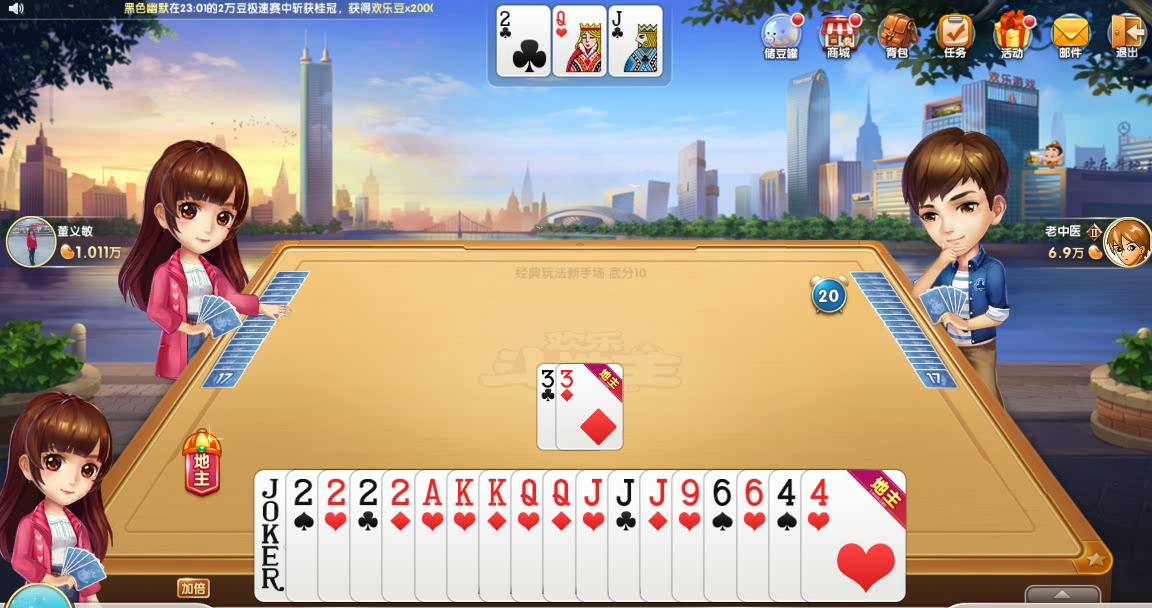11~1: (639, 469, 745, 603)
11~2: (607, 469, 713, 603), (608, 3, 663, 77)
11~3: (575, 469, 681, 603)
12~1: (542, 468, 648, 602)
12~3: (509, 468, 615, 602), (553, 4, 608, 78)
13~1: (478, 468, 584, 602)
13~3: (445, 468, 551, 602)
14~3: (414, 468, 520, 602)
15~1: (381, 469, 487, 603)
15~2: (349, 468, 455, 602), (497, 4, 552, 78)
15~3: (316, 469, 422, 603)
15~4: (284, 468, 390, 602)
17~3: (254, 469, 360, 603)
3~1: (555, 363, 624, 451)
3~2: (537, 362, 606, 450)
4~3: (801, 469, 907, 603)
4~4: (768, 468, 874, 602)
6~3: (736, 469, 842, 603)
6~4: (703, 469, 809, 603)
9~3: (672, 469, 778, 603)
